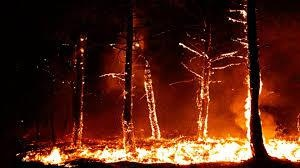fire: (262, 132, 299, 161)
